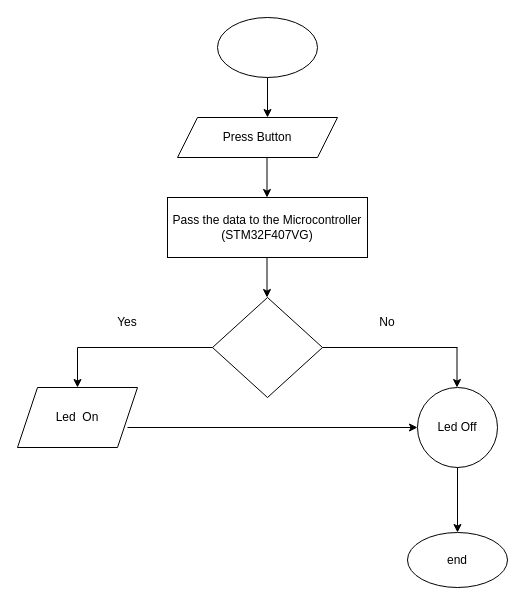
Image size: 525x605. Some labels were removed from this diagram. Here are the shapes that lost their labels. From the top down, the centre of each, then its label:
the point at 267,47: Start
the point at 267,347: Push Button Control
